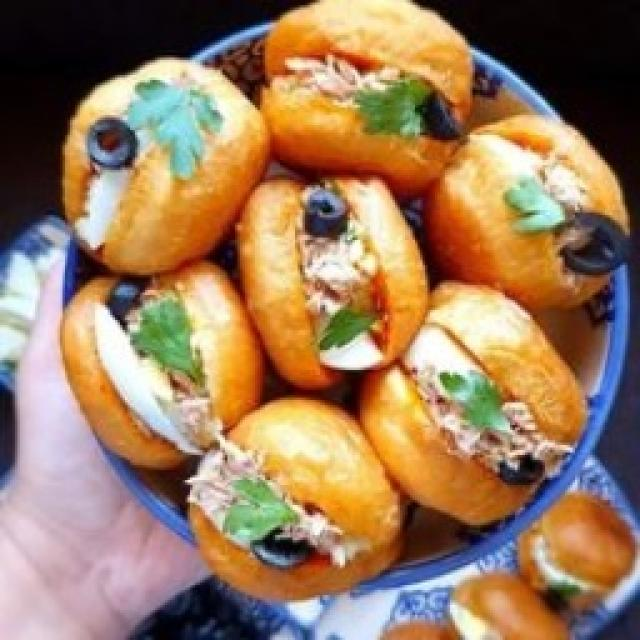Frecasse: (0, 0, 632, 582)
